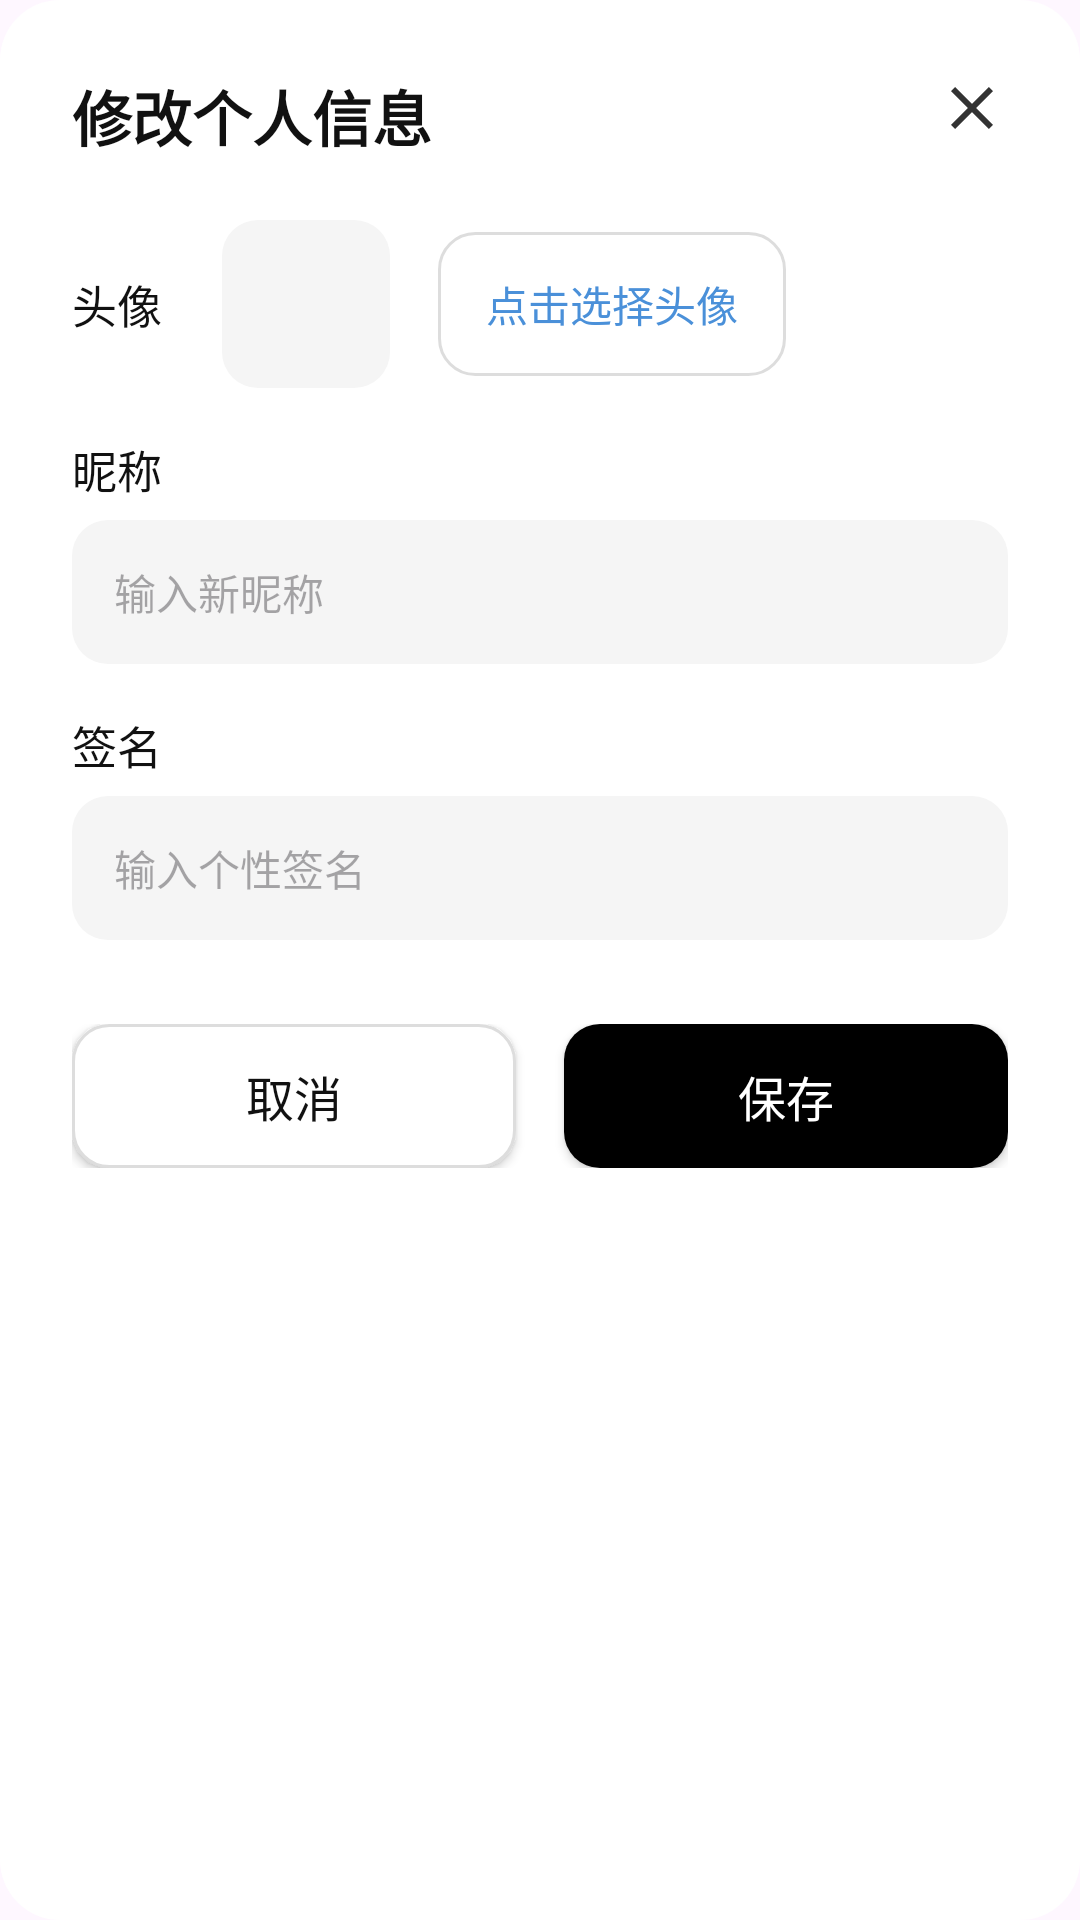

Where icons sit on this 1080px×1920px app screen, as BBox(x1, y1, x2, y2):
关闭弹窗: BBox(951, 87, 993, 129)
